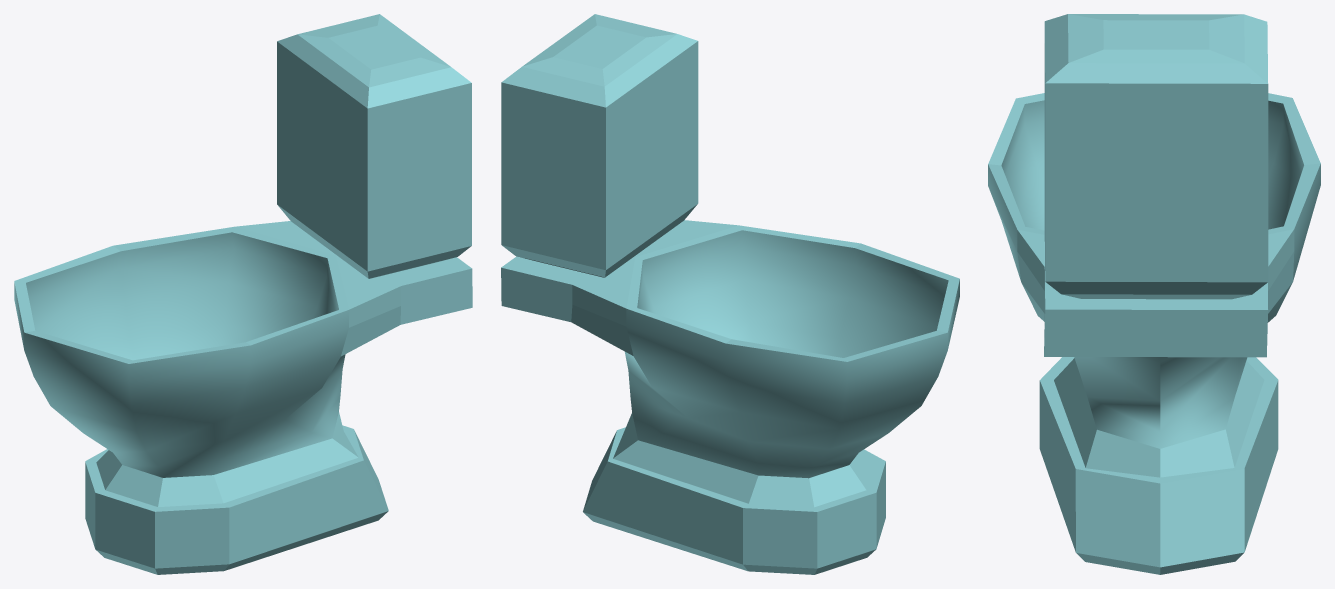
Rendered from Sanitario.fbx.
3 views of the same model, side by side, from view 1: azimuth 30°, elevation 25°; view 2: azimuth 150°, elevation 25°; view 3: azimuth 270°, elevation 25° (orthographic). The views are drawn at different scales.
Visible parts, largest first — view 1: Cylinder.002; view 2: Cylinder.002; view 3: Cylinder.002.
Boxes of the visible parts, <box> form: Cylinder.002: <box>14,14,472,574</box>; Cylinder.002: <box>501,14,959,574</box>; Cylinder.002: <box>988,14,1320,574</box>.
Size of the model in its own units: 0.6547 by 0.692 by 0.385.
